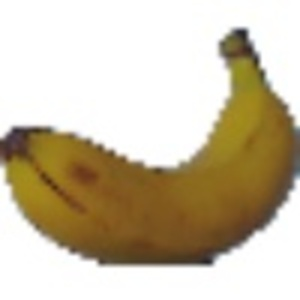banana: (4, 19, 298, 272)
